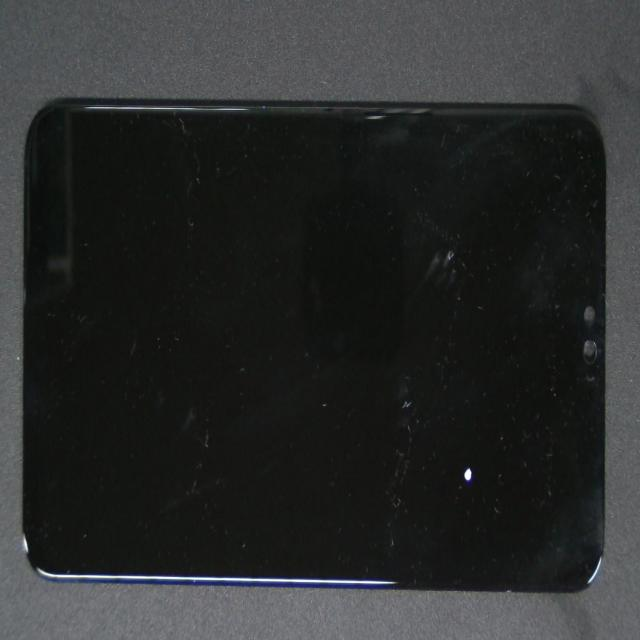Dislodged Screen: (438, 447, 497, 510)
